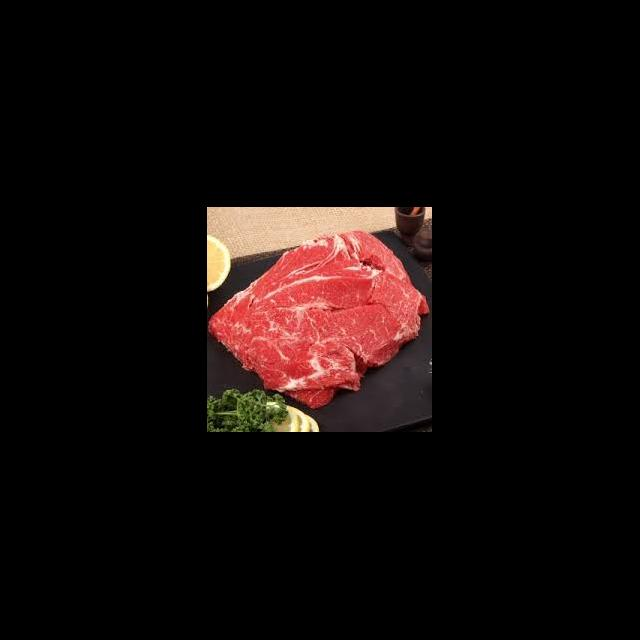beef: (210, 231, 430, 407)
